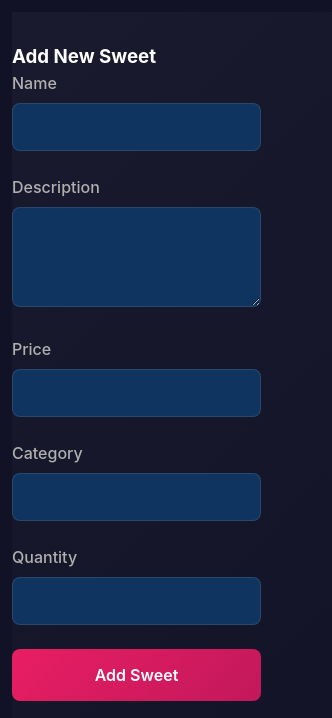
Test case: AddSweet Component › should show validation error when required fields are empty
This screenshot has width=332, height=718.
Click the button "Add Sweet". click: (136, 675)
box: [12,649,261,701]
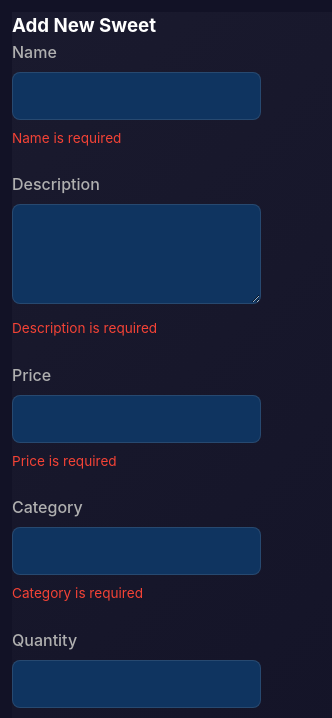
Expected: the text "Name is required" is shown, [12,130,121,146]
